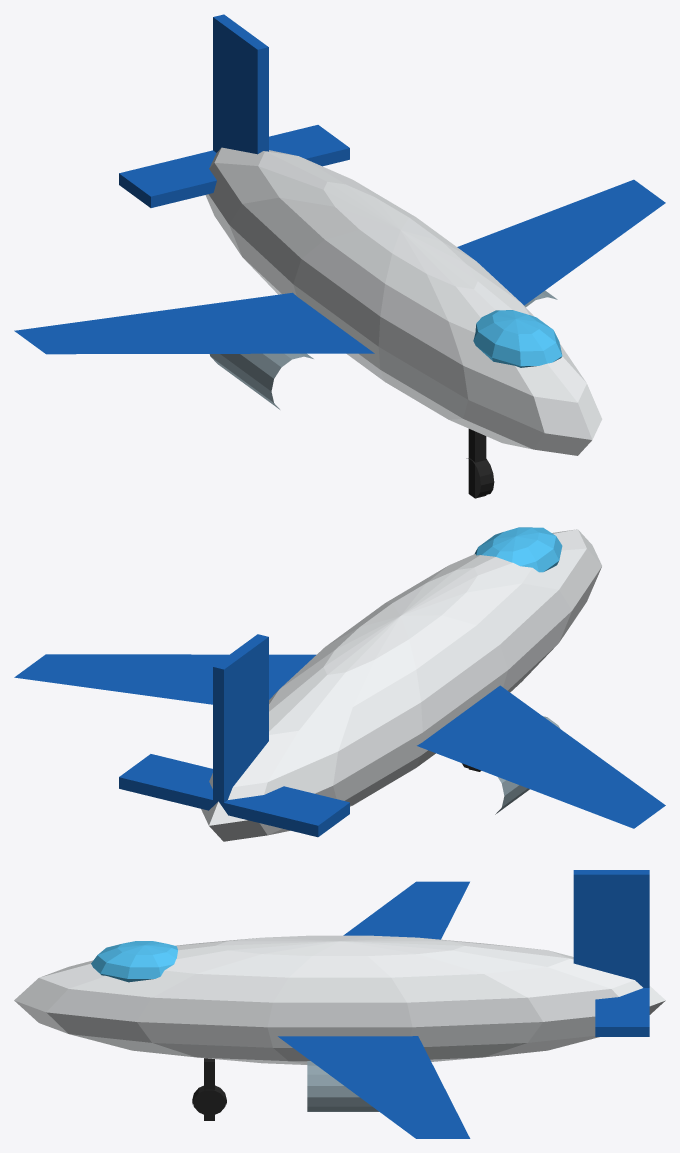
The model's file is jetplan.glb.
The picture shows the model from 3 angles, top to bottom: view 1: azimuth 30°, elevation 25°; view 2: azimuth 150°, elevation 25°; view 3: azimuth 270°, elevation 25°; orthographic projection. The views are drawn at different scales.
Visible parts, largest first — view 1: jetplan; view 2: jetplan; view 3: jetplan.
Part boxes in pixels (box(x1,y1,x2,y2)): jetplan: box(14, 14, 665, 498); jetplan: box(14, 527, 665, 841); jetplan: box(14, 870, 665, 1138).
Size of the model in its own units: 2.8 by 1.25 by 3.
